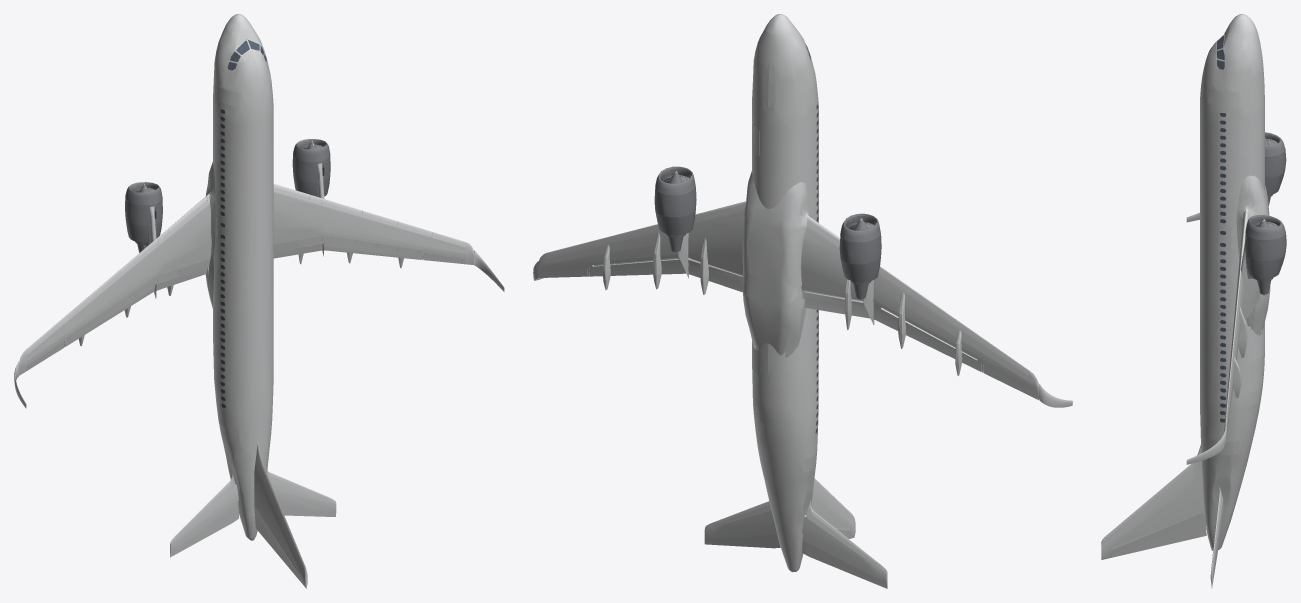
3 views of the same model, side by side, from view 1: azimuth 30°, elevation 25°; view 2: azimuth 150°, elevation 25°; view 3: azimuth 270°, elevation 25° (orthographic). The views are drawn at different scales.
Parts seen in each view (by area): view 1: A20N; view 2: A20N; view 3: A20N.
Boxes of the visible parts, left/top/right/bottom form: A20N: left=14, top=14, right=504, bottom=588; A20N: left=533, top=14, right=1072, bottom=588; A20N: left=1101, top=14, right=1286, bottom=588.
Bounding box in the file's own units: 35.86 × 37.57 × 11.59.
